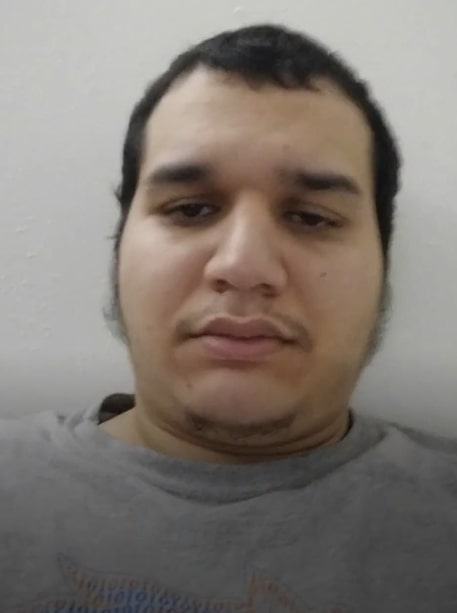Half Asleep: (134, 156, 370, 259)
